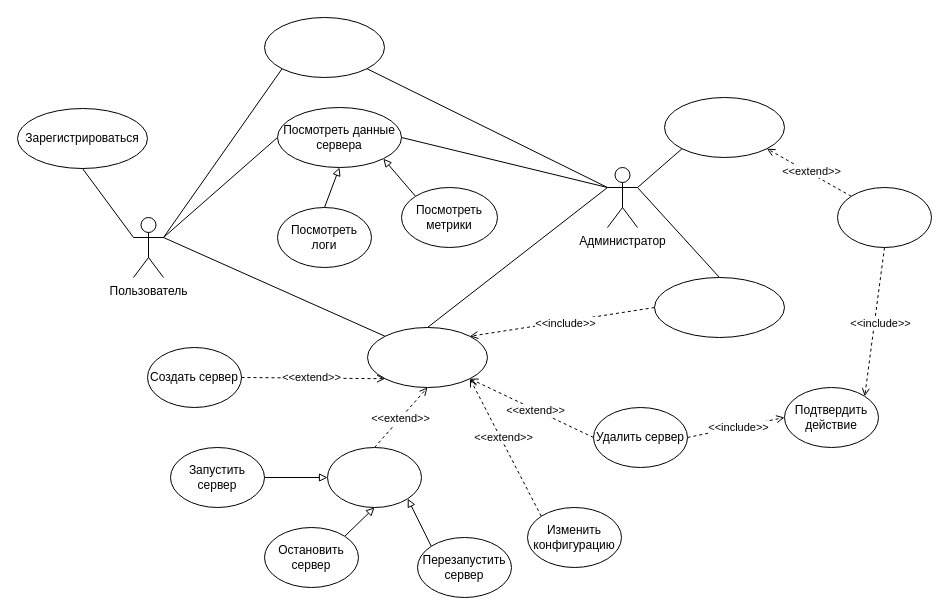
Some shapes in this 949 by 615 pixel diagram are drawn without their labels. The shapes that lost their labels are listed below. From the top down, each one's centre as x and y in pixels, then its label:
point (324, 47): Войти в систему
point (724, 127): Посмотреть список пользователей
point (884, 217): Удалить пользователя
point (719, 307): Посмотреть серверы пользователей
point (427, 357): Посмотреть список серверов
point (374, 477): Изменить статус сервера
